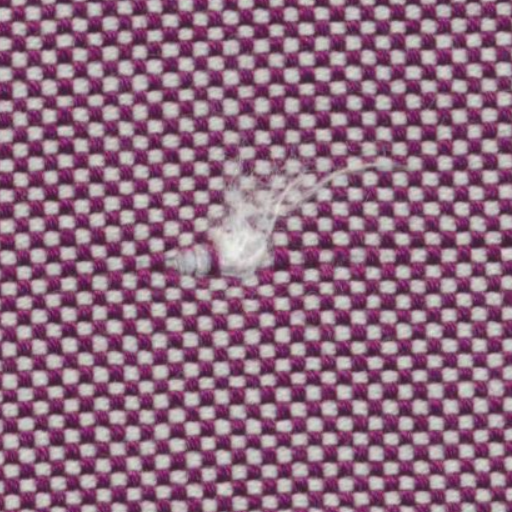DuanSha: (144, 151, 348, 302)
